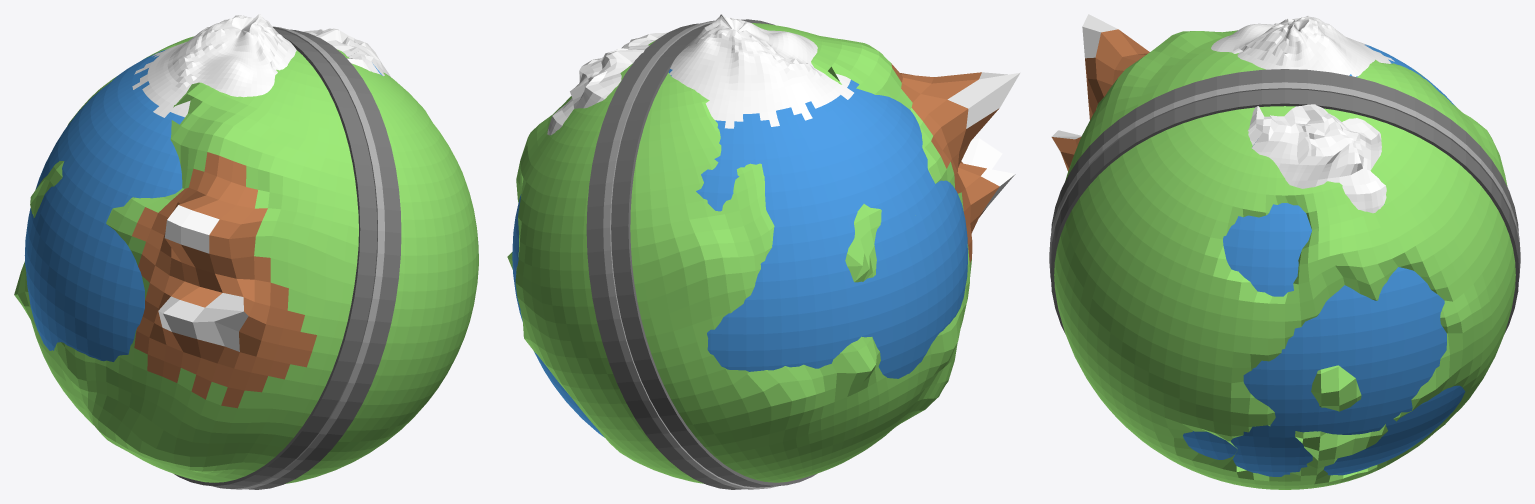
Rendered from little_earth_final.gltf.
The picture shows the model from 3 angles, left to right: view 1: azimuth 30°, elevation 25°; view 2: azimuth 150°, elevation 25°; view 3: azimuth 270°, elevation 25°; orthographic projection.
Visible parts, largest first — view 1: Sphere, Sphere.001, Cylinder, Cylinder.001; view 2: Sphere, Sphere.001, Cylinder, Cylinder.001; view 3: Sphere, Sphere.001, Cylinder, Cylinder.001.
Part boxes in pixels (x1=…): Sphere: x1=14, y1=36, x2=478, y2=483; Sphere.001: x1=24, y1=14, x2=390, y2=361; Cylinder: x1=174, y1=28, x2=401, y2=489; Cylinder.001: x1=211, y1=26, x2=384, y2=489; Sphere: x1=507, y1=23, x2=1020, y2=483; Sphere.001: x1=512, y1=14, x2=967, y2=437; Cylinder: x1=586, y1=19, x2=816, y2=489; Cylinder.001: x1=603, y1=20, x2=778, y2=489; Sphere: x1=1051, y1=14, x2=1515, y2=489; Sphere.001: x1=1183, y1=16, x2=1465, y2=476; Cylinder: x1=1050, y1=69, x2=1519, y2=332; Cylinder.001: x1=1049, y1=82, x2=1520, y2=278.
Bounding box in the file's own units: 20.1 × 21.45 × 20.32.
